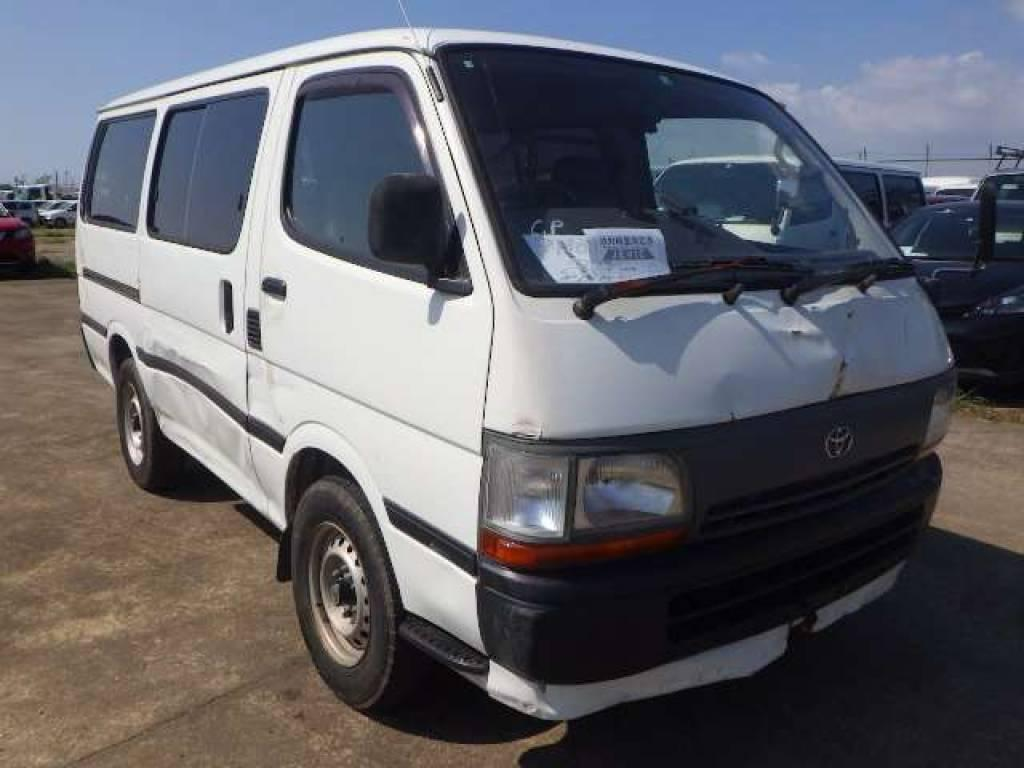Van: (83, 26, 956, 714)
